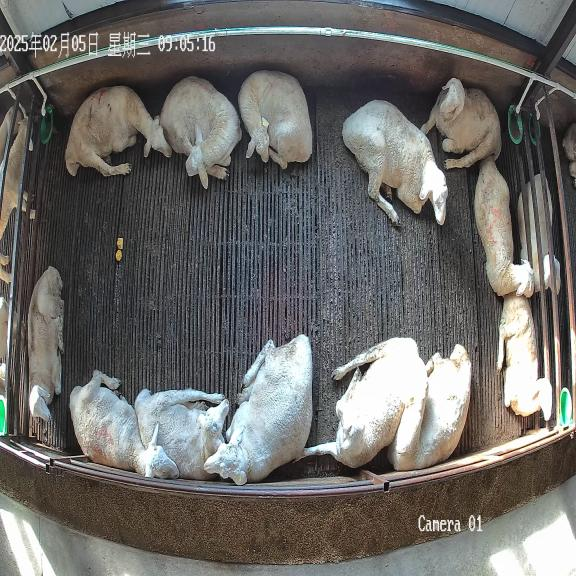lying: (204, 334, 312, 484), (303, 338, 426, 468), (342, 100, 448, 225), (69, 370, 179, 478), (387, 344, 471, 470), (65, 86, 171, 176), (160, 76, 241, 189), (135, 389, 229, 480), (474, 161, 535, 297), (420, 78, 501, 169), (238, 70, 312, 169), (497, 294, 552, 420), (27, 267, 64, 422)
